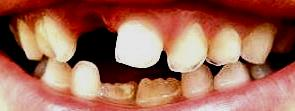Hypodontia: (67, 23, 121, 59)
